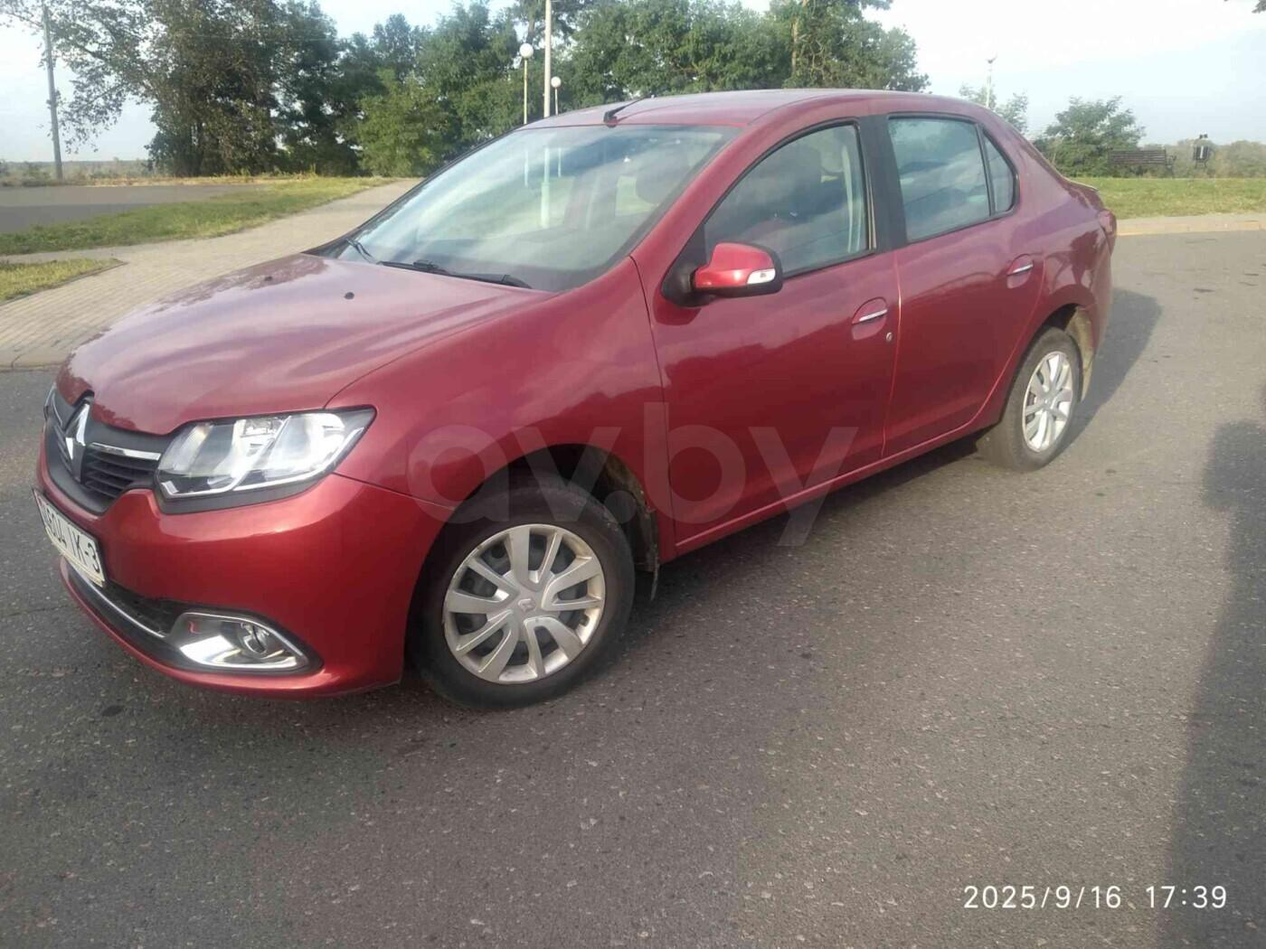Logan_2013-2018: (30, 77, 1124, 724)
